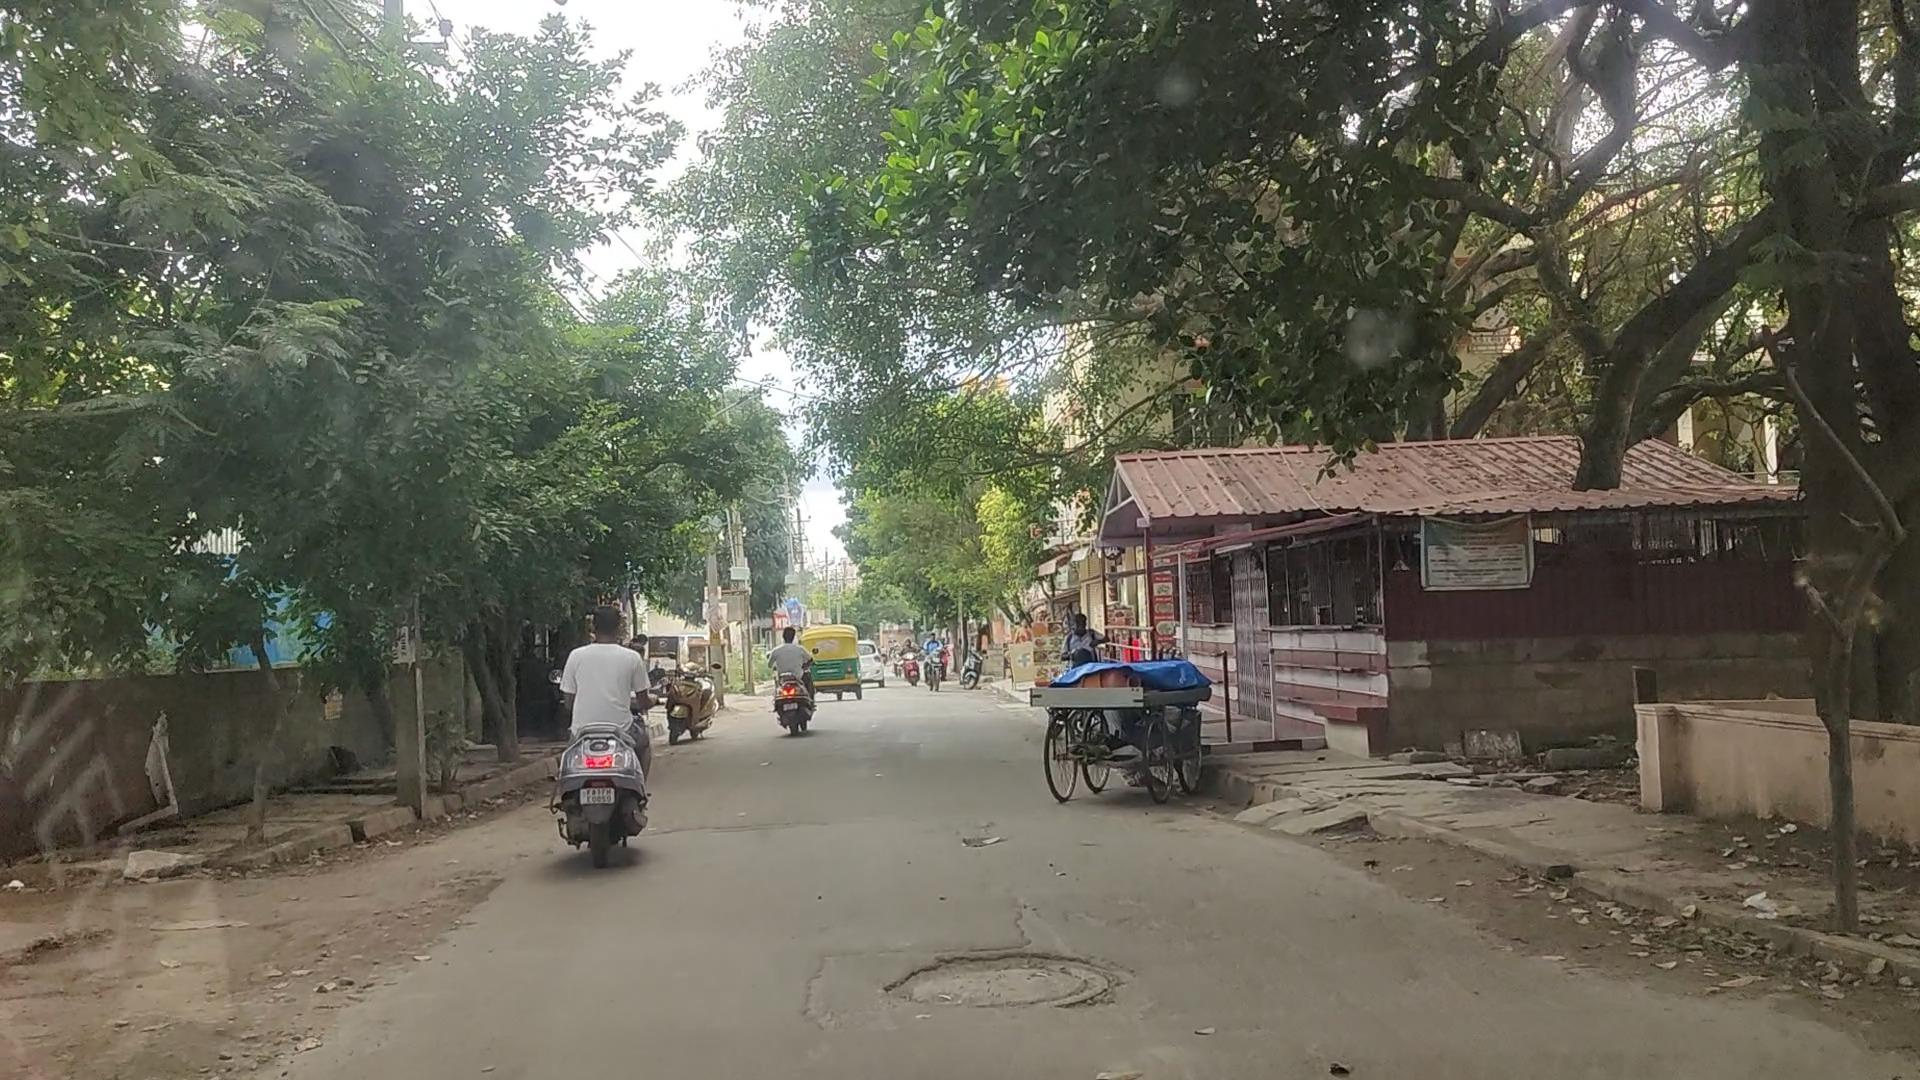LMV: (558, 585, 655, 869)
RoadDamages: (225, 931, 510, 1035), (876, 942, 1124, 1023), (410, 828, 555, 918)
